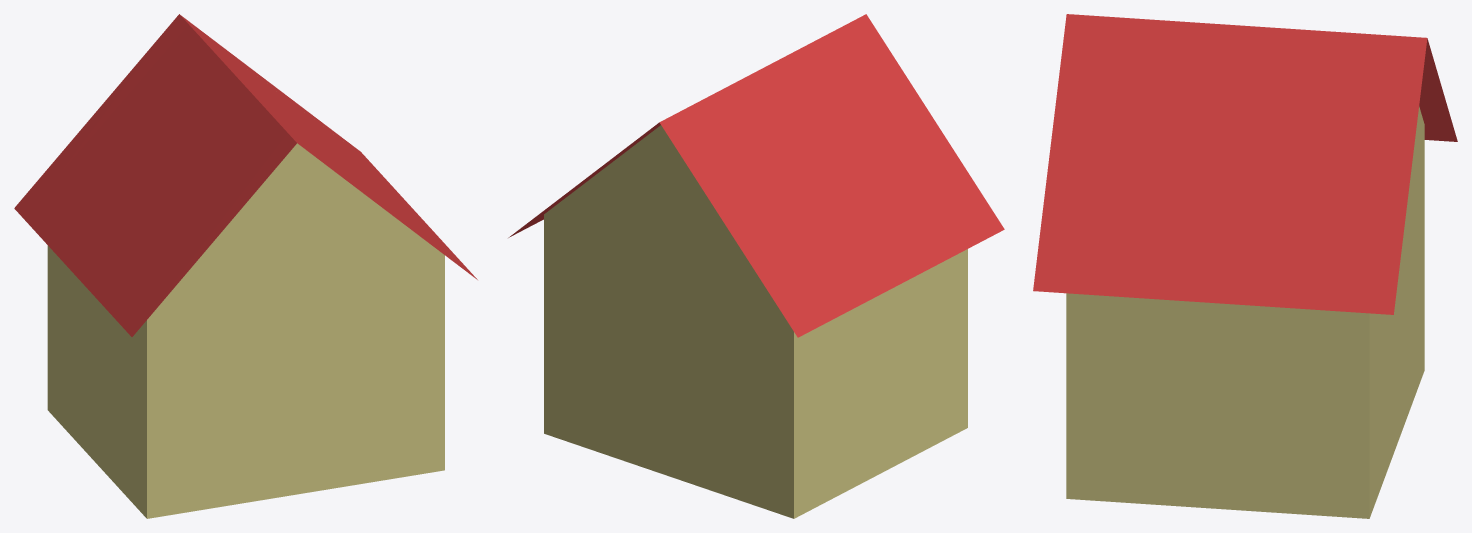
The picture shows the model from 3 angles, left to right: view 1: azimuth 30°, elevation 25°; view 2: azimuth 150°, elevation 25°; view 3: azimuth 270°, elevation 25°; orthographic projection. The views are drawn at different scales.
Size of the model in its own units: 12.01 by 10.96 by 11.51.
